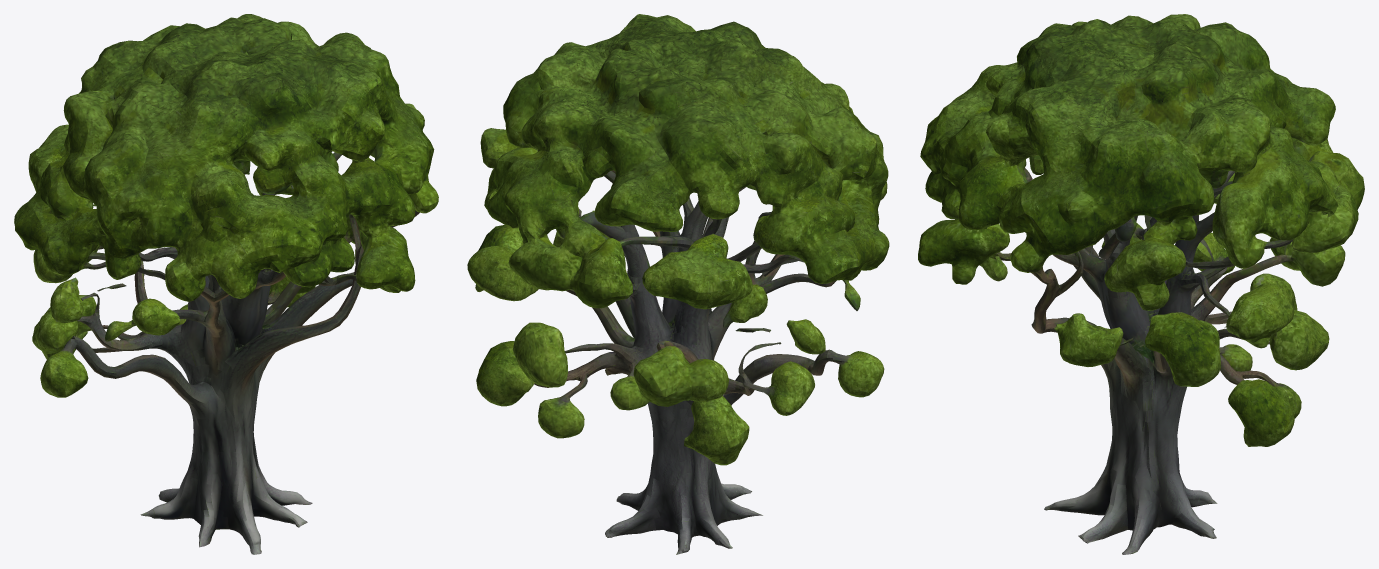
File: raw_meshy_model.glb
3 views of the same model, side by side, from view 1: azimuth 30°, elevation 25°; view 2: azimuth 150°, elevation 25°; view 3: azimuth 270°, elevation 25° (orthographic). The views are drawn at different scales.
Bounding box in the file's own units: 1.61 × 1.88 × 1.58.
1 material, 1 textured.
